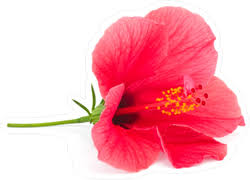hybiscus: (89, 7, 248, 175)
